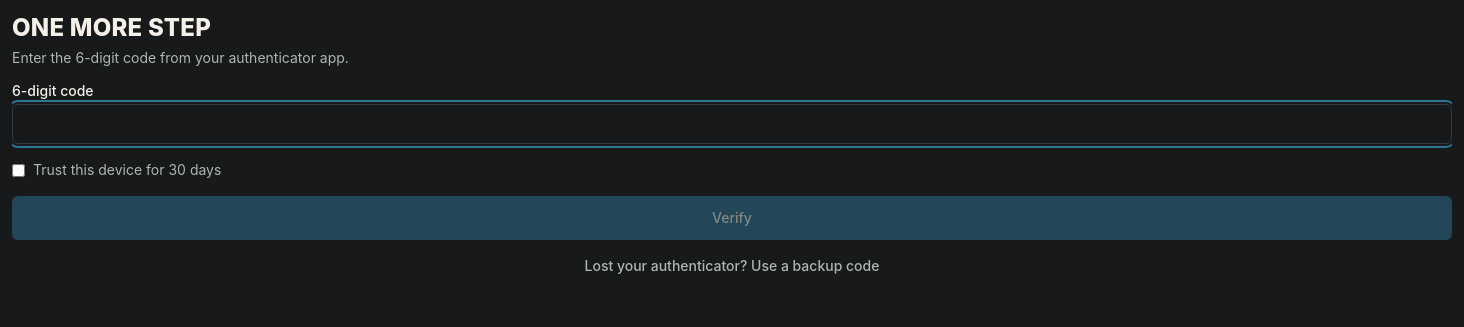
Test: totp mode › explains the 30-second window when the code is refused
Type "000000" into the field labelled "6-digit code". click: [732, 124]
box: [12, 104, 1452, 144]
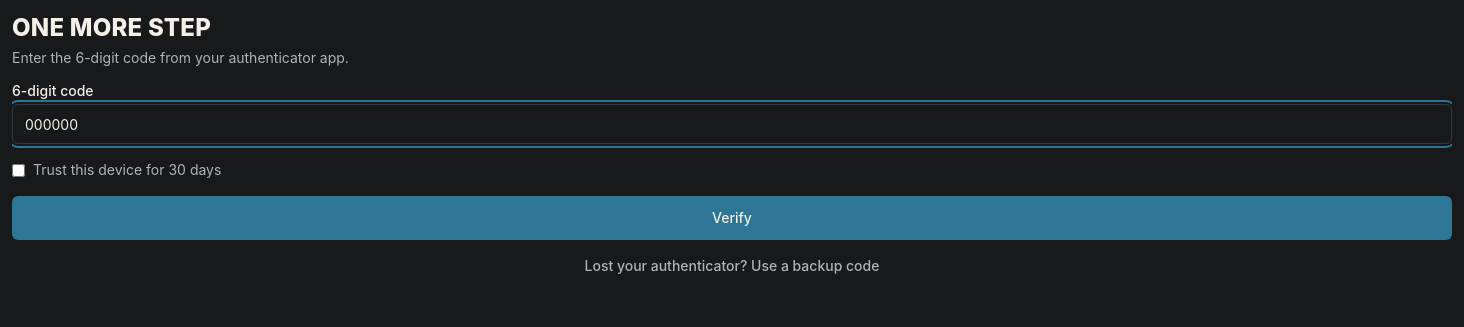
Click the button "Verify". click: [732, 218]
box: [12, 196, 1452, 240]
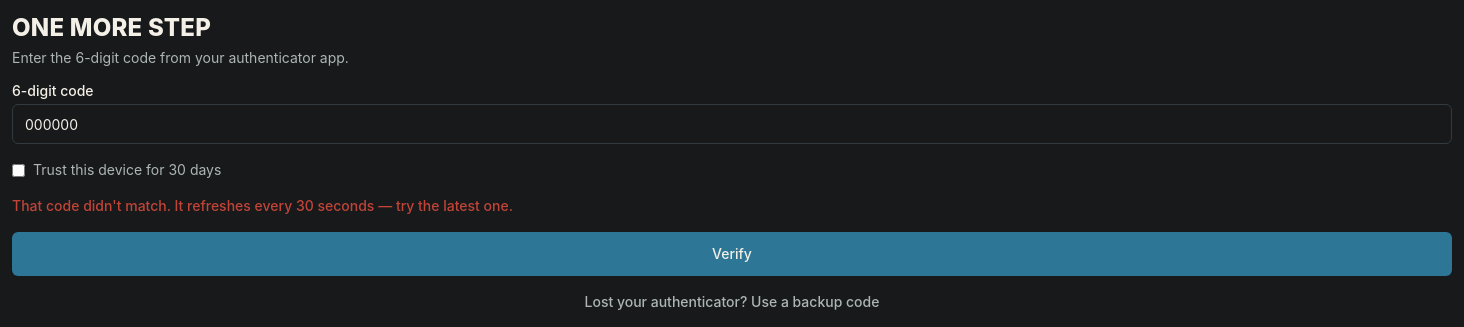
Check: the message reads "That code didn't match. It refreshes every 30 seconds — try the latest one.", box [12, 197, 513, 214]
